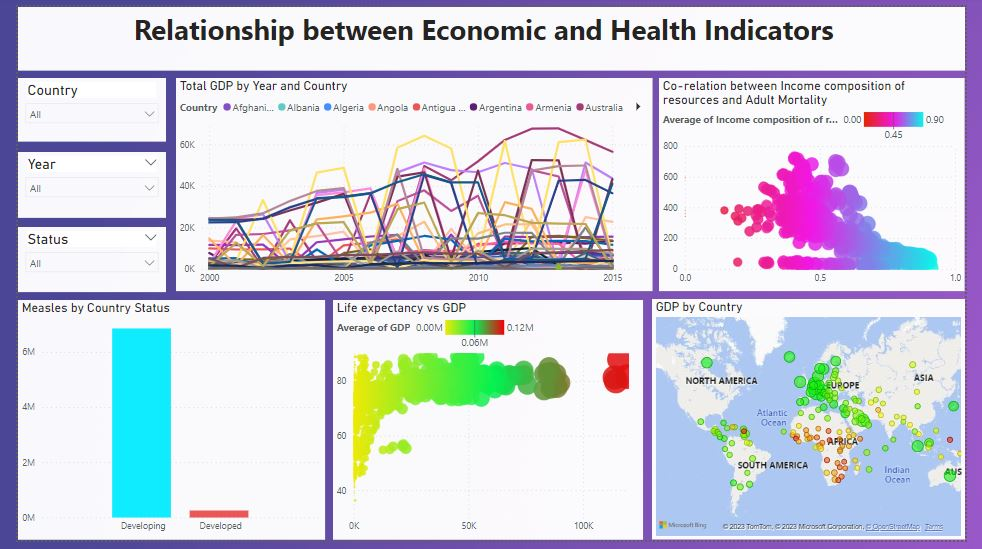

The page's visual inventory and layout, read from the dashboard file:
{"tool":"powerbi","page":{"name":"Relationship between Economic and Health Indicators","canvas":[1280,720],"ordinal":4},"visuals":[{"type":"lineClusteredColumnComboChart","title":"Measles  by Country Status","fields":{"Category":["Life Expectancy Data.Status"],"Y":["Sum(Life Expectancy Data.Measles )"]},"box":[0,396,414.7,324],"z":0},{"type":"scatterChart","title":"Life expectancy vs GDP ","fields":{"Y":["Life Expectancy Data.Life expectancy "],"X":["Life Expectancy Data.GDP"],"Size":["Avg(Life Expectancy Data.GDP)1"]},"box":[426.2,396,419,324],"z":1000},{"type":"lineChart","title":"Total GDP by Year and Country","fields":{"Category":["Life Expectancy Data.Year"],"Y":["Sum(Life Expectancy Data.GDP)"],"Series":["Life Expectancy Data.Country"]},"box":[213.1,96.5,643.7,288],"z":2000},{"type":"scatterChart","title":"Co-relation between Income composition of resources and Adult Mortality","fields":{"Y":["Life Expectancy Data.Adult Mortality"],"X":["Avg(Life Expectancy Data.Income composition of resources)"],"Size":["Avg(Life Expectancy Data.Income composition of resources)"]},"box":[866.9,96.5,413.3,288],"z":3000},{"type":"map","title":"GDP by Country","fields":{"Category":["Life Expectancy Data.Country"],"Size":["Avg(Life Expectancy Data.GDP)"]},"box":[856.8,394.6,423.4,325.4],"z":5000},{"type":"slicer","fields":{"Values":["Life Expectancy Data.Country"]},"box":[0,96.5,200.2,86.4],"z":6000},{"type":"slicer","fields":{"Values":["Life Expectancy Data.Year"]},"box":[0,195.8,200.2,89.3],"z":7000},{"type":"slicer","fields":{"Values":["Life Expectancy Data.Status"]},"box":[0,296.6,200.2,87.8],"z":8000},{"type":"textbox","box":[0,0,1280.2,86.4],"z":9000}]}

Visuals, with their boxes in screenshot pixels (x1, y1, x2, y2), scaled from the page's 1280x720 canvas onto the 982x549 screenshot:
"Measles  by Country Status" lineClusteredColumnComboChart: locate(0, 302, 318, 548)
"Life expectancy vs GDP " scatterChart: locate(327, 302, 648, 548)
"Total GDP by Year and Country" lineChart: locate(163, 74, 657, 293)
"Co-relation between Income composition of resources and Adult Mortality" scatterChart: locate(665, 74, 981, 293)
"GDP by Country" map: locate(657, 301, 981, 548)
slicer - Life Expectancy Data.Country: locate(0, 74, 154, 139)
slicer - Life Expectancy Data.Year: locate(0, 149, 154, 217)
slicer - Life Expectancy Data.Status: locate(0, 226, 154, 293)
textbox: locate(0, 0, 981, 66)
